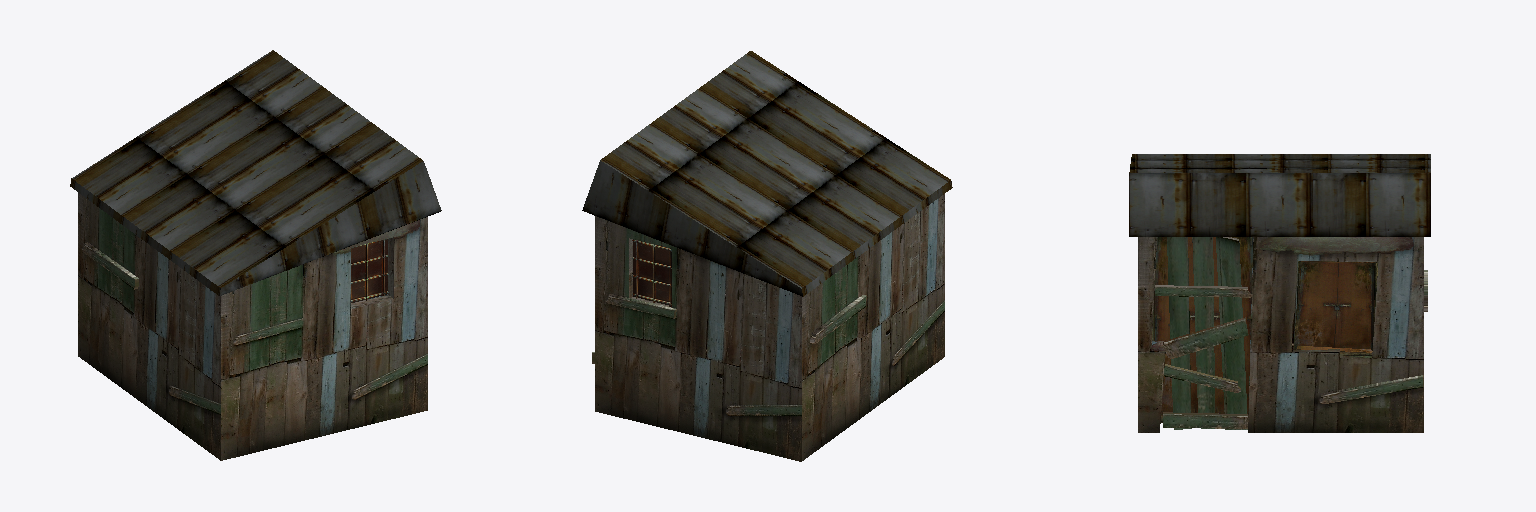
The picture shows the model from 3 angles: view 1: azimuth 30°, elevation 25°; view 2: azimuth 150°, elevation 25°; view 3: azimuth 270°, elevation 25°; orthographic projection.
Bounding box in the file's own units: 66.36 × 73.58 × 78.32.
4 materials, 4 textured.